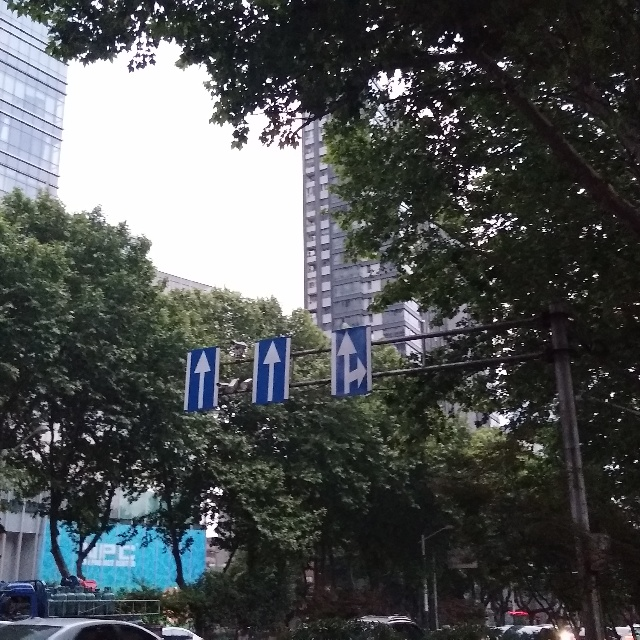straight: (252, 337, 291, 403), (184, 347, 218, 412)
